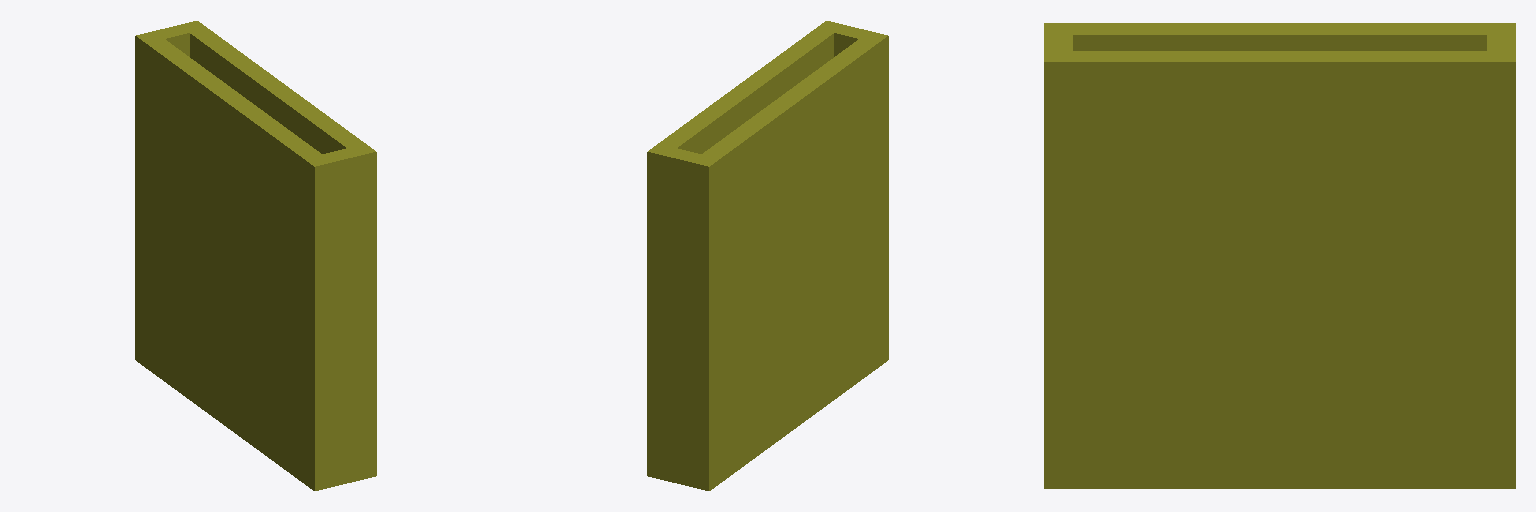
The robot description file, URDF, robot "box":
<?xml version="1.0"?>
<robot name="box">
  <link name="box">
    <visual>
      <origin rpy="1.5708 0 1.5708" xyz="0 0 0"/>
      <geometry>
        <mesh filename="meshes/box.obj"/>
      </geometry>
      <material name="yellow">
        <color rgba="0.6 0.6 0.2 1"/>
      </material>
    </visual>

    <collision>
      <origin rpy="1.5708 0 1.5708" xyz="0 0 0"/>
      <geometry>
        <mesh filename="meshes/vhacd_box.obj"/>
      </geometry>
    </collision>

    <inertial>
      <origin rpy="0 0 0" xyz="0 0 0"/>
      <mass value="1.0"/>
      <inertia ixx="0.001" iyy="0.001" izz="0.001"
               ixy="0" ixz="0" iyz="0"/>
    </inertial>
  </link>
</robot>

--- Render facts (derived) ---
3 views of the same robot in one strip: view 1: azimuth 30°, elevation 25°; view 2: azimuth 150°, elevation 25°; view 3: azimuth 270°, elevation 25° (orthographic).
Model box with 1 links and 0 joints (none), rooted at box, posed all joints at 0.
Links seen in each view (by area): view 1: box; view 2: box; view 3: box.
Link boxes in pixels (left/top/right/bottom): box: left=135, top=21, right=376, bottom=490; box: left=647, top=21, right=888, bottom=490; box: left=1044, top=23, right=1515, bottom=488.
Bounding box of the posed robot: 0.04 × 0.2 × 0.2 m (x, y, z).
Meshes: 1 distinct files referenced, 1 mesh visuals loaded (1 OBJ).
